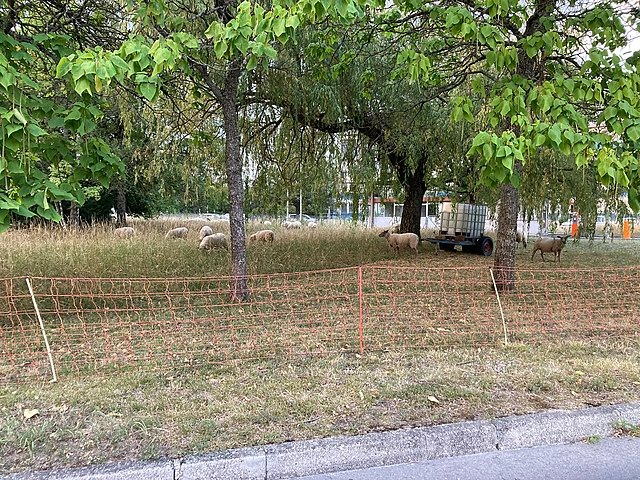grazing: (198, 233, 227, 259), (249, 230, 278, 248), (162, 225, 189, 244)
standing: (376, 229, 422, 260), (528, 234, 568, 262)
